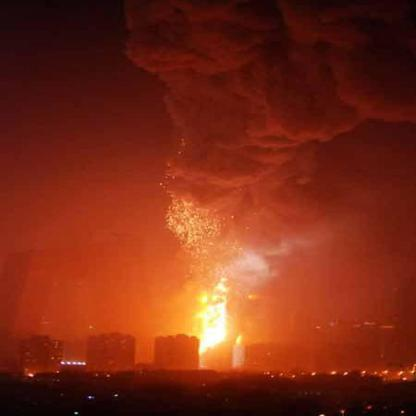fire: (191, 273, 240, 347)
smoke: (102, 4, 410, 266)
